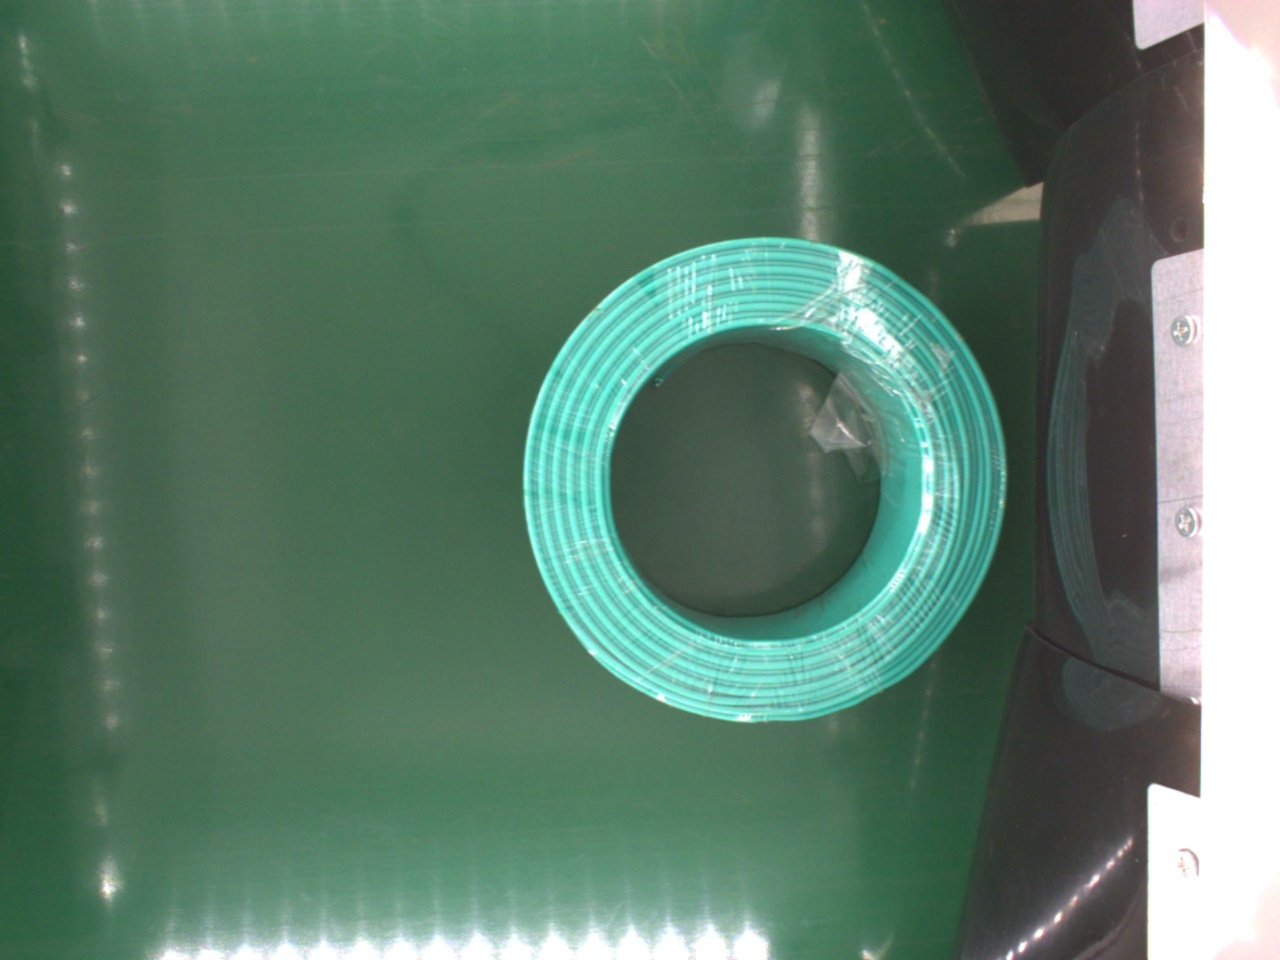green: (524, 235, 1006, 725)
